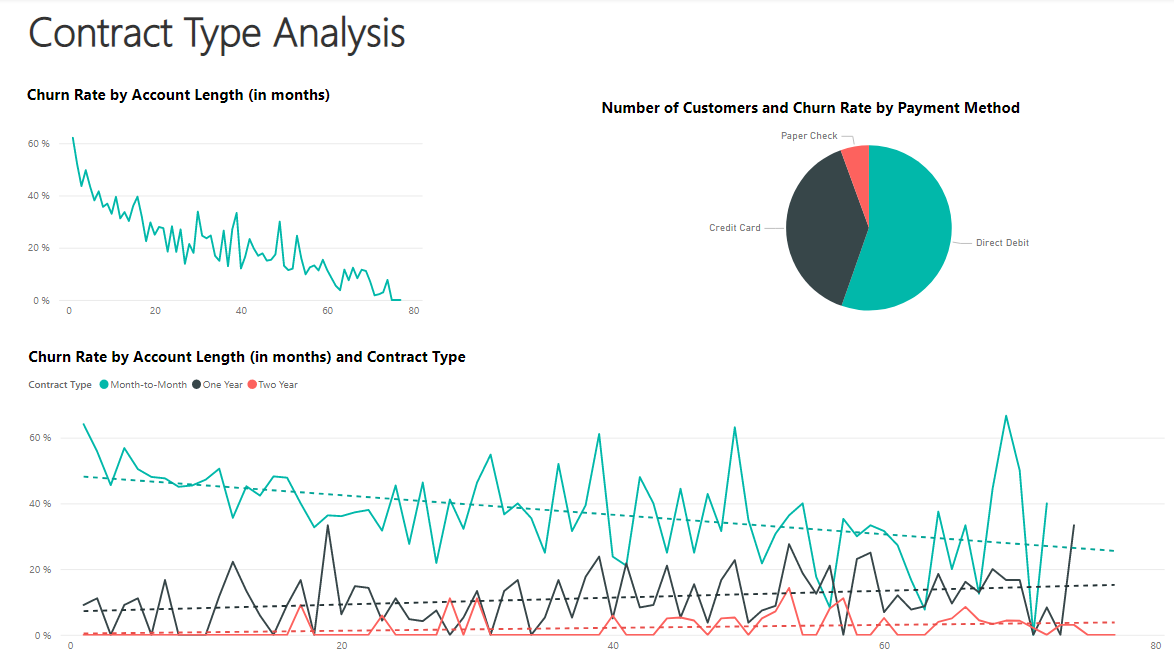

Layout of this report page (visuals, bound fields, positions):
{"tool":"powerbi","page":{"name":"Contract Type","canvas":[1280,720],"ordinal":2},"visuals":[{"type":"lineChart","fields":{"Y":["Databel - Data.Churn Rate"],"Category":["Databel - Data.Account Length (in months)"]},"box":[31.8,90.6,429.7,258.6],"z":0,"group":"g1"},{"type":"lineChart","fields":{"Y":["Databel - Data.Churn Rate"],"Category":["Databel - Data.Account Length (in months)"],"Series":["Databel - Data.Contract Type"]},"box":[32.8,369.1,1214.5,335.1],"z":0},{"type":"pieChart","fields":{"Category":["Databel - Data.Payment Method"],"Y":["Databel - Data.Number of Customers"]},"box":[640.6,104.8,576.9,256],"z":1000,"group":"g1"},{"type":"group","id":"g1","title":"Group 1","box":[31.8,90.6,1185.7,270.2],"z":1000},{"type":"textbox","box":[33.4,0,1246.1,90.6],"z":1001}]}

Visuals, with their boxes in screenshot pixels (x1, y1, x2, y2), scaled from the page's 1280x720 canvas onto the 1174x659 screenshot:
lineChart - Databel - Data.Churn Rate x Databel - Data.Account Length (in months): box=[29, 83, 423, 320]
lineChart - Databel - Data.Churn Rate x Databel - Data.Account Length (in months): box=[30, 338, 1144, 645]
pieChart - Databel - Data.Payment Method x Databel - Data.Number of Customers: box=[588, 96, 1117, 330]
"Group 1" group: box=[29, 83, 1117, 330]
textbox: box=[31, 0, 1173, 83]
